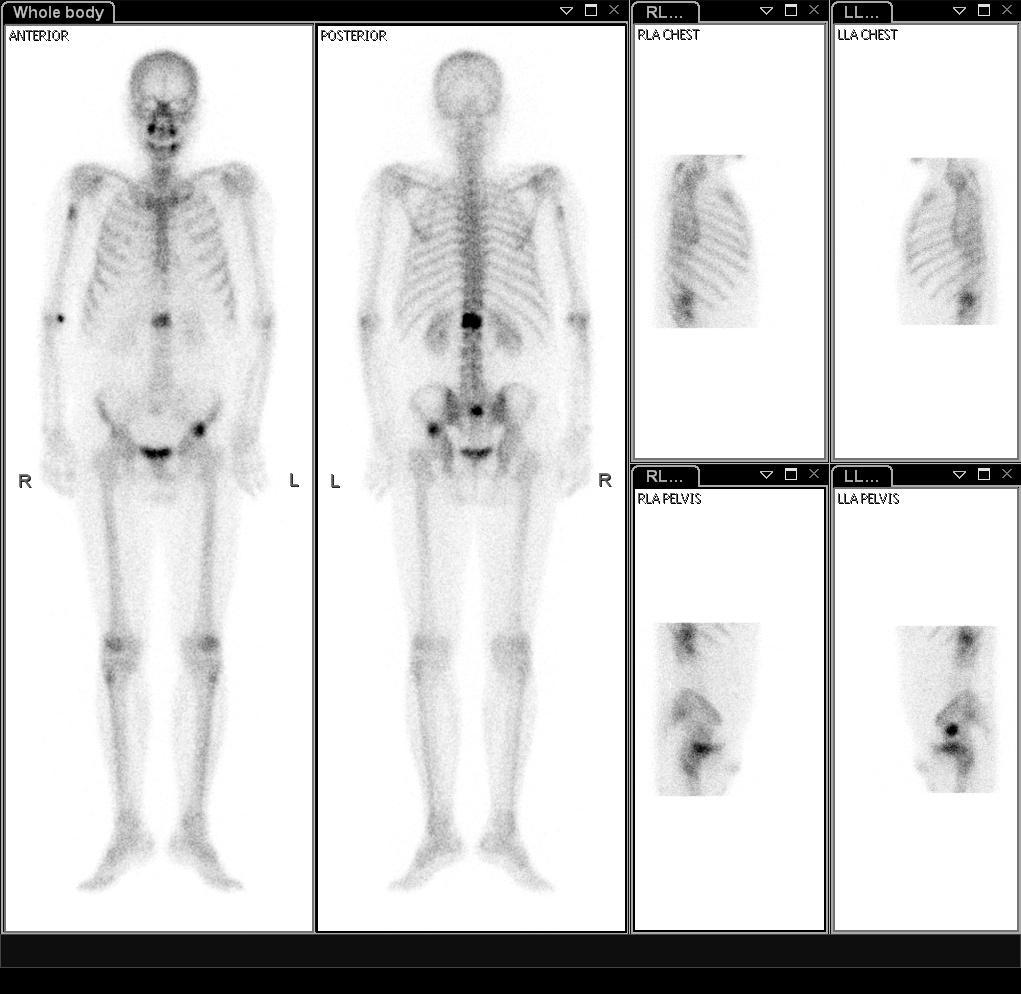person: (4, 24, 627, 932)
